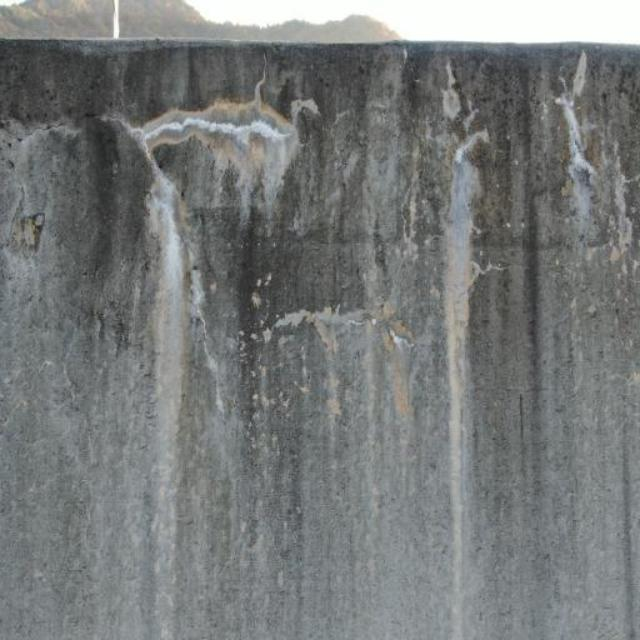D01: (442, 114, 481, 629)
